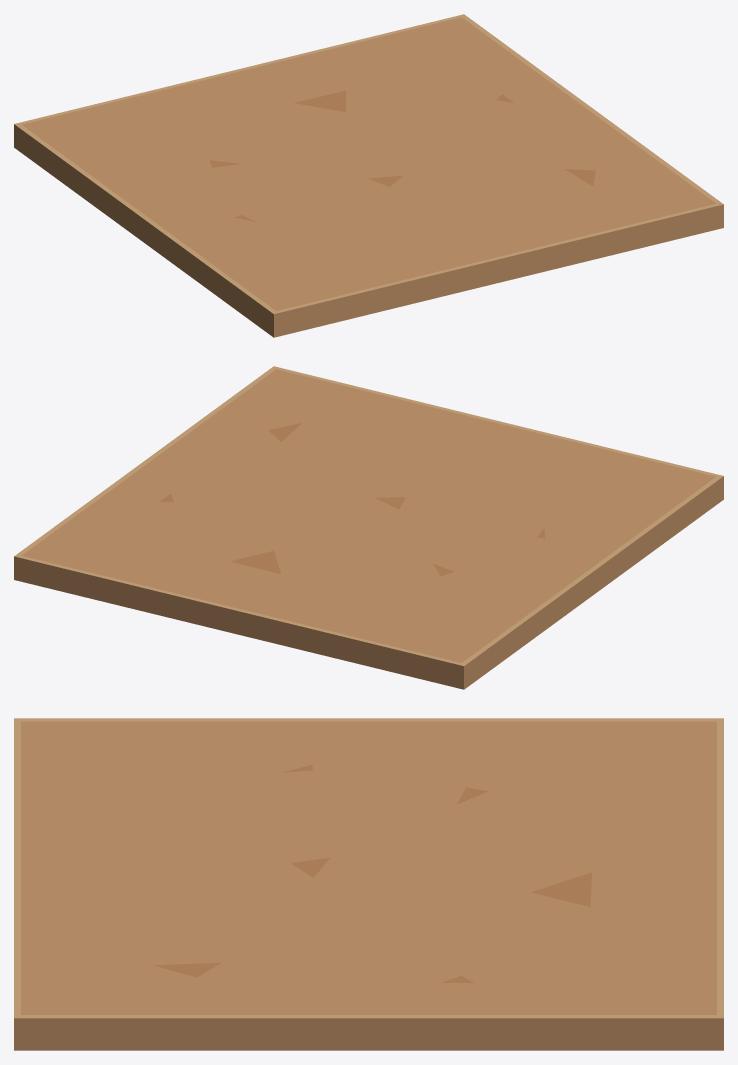
File: ConcrateSlabs_E_1_3.fbx
3 views of the same model, one above another, from view 1: azimuth 30°, elevation 25°; view 2: azimuth 150°, elevation 25°; view 3: azimuth 270°, elevation 25° (orthographic). The views are drawn at different scales.
Visible parts, largest first — view 1: ConcrateSlabs_E_1_3; view 2: ConcrateSlabs_E_1_3; view 3: ConcrateSlabs_E_1_3.
Part boxes in pixels (x1,y1,x2,y2): ConcrateSlabs_E_1_3: (14,14,723,337); ConcrateSlabs_E_1_3: (14,366,723,689); ConcrateSlabs_E_1_3: (14,718,723,1050).
Size of the model in its own units: 800 by 40 by 800.
